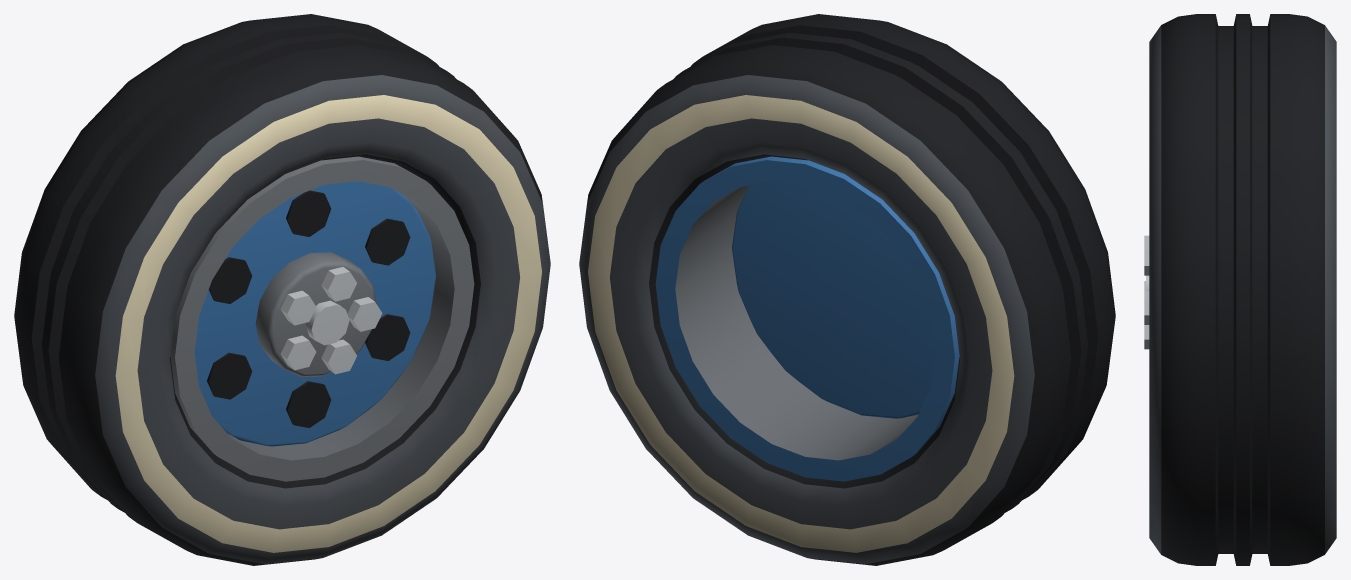
The model's file is SM_Wheel_Steel_01.glb.
The picture shows the model from 3 angles, left to right: view 1: azimuth 30°, elevation 25°; view 2: azimuth 150°, elevation 25°; view 3: azimuth 270°, elevation 25°; orthographic projection.
Visible parts, largest first — view 1: SM_Wheel_Steel_01; view 2: SM_Wheel_Steel_01; view 3: SM_Wheel_Steel_01.
Boxes of the visible parts, x1,y1,x2,y2 form: SM_Wheel_Steel_01: [14, 14, 550, 565]; SM_Wheel_Steel_01: [579, 14, 1115, 565]; SM_Wheel_Steel_01: [1144, 14, 1336, 565].
Size of the model in its own units: 0.65 by 0.65 by 0.226.
1 material, 1 textured.
